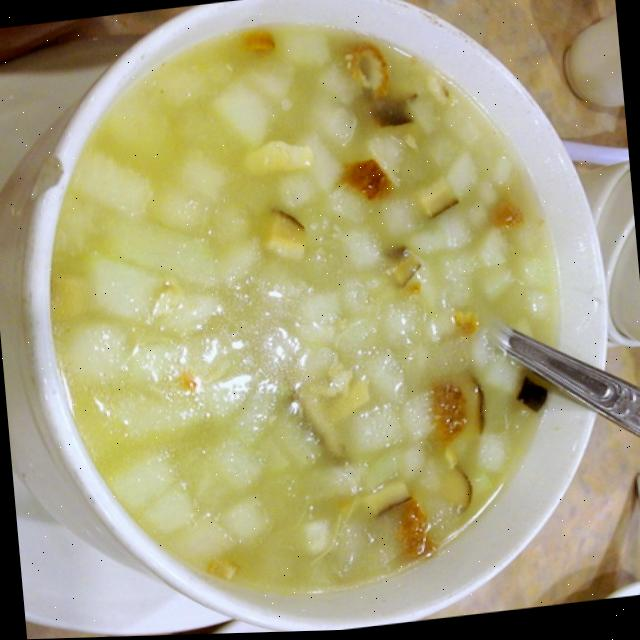汤锅炖物: (5, 0, 632, 640)
